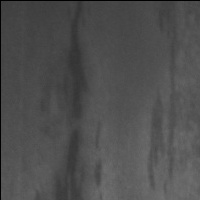inclusion: (147, 11, 191, 195), (56, 1, 91, 200), (86, 114, 109, 191)
